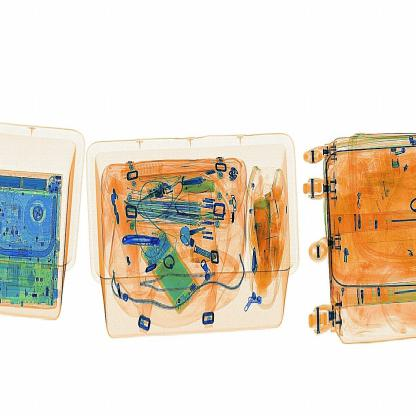knife: (116, 226, 165, 257)
